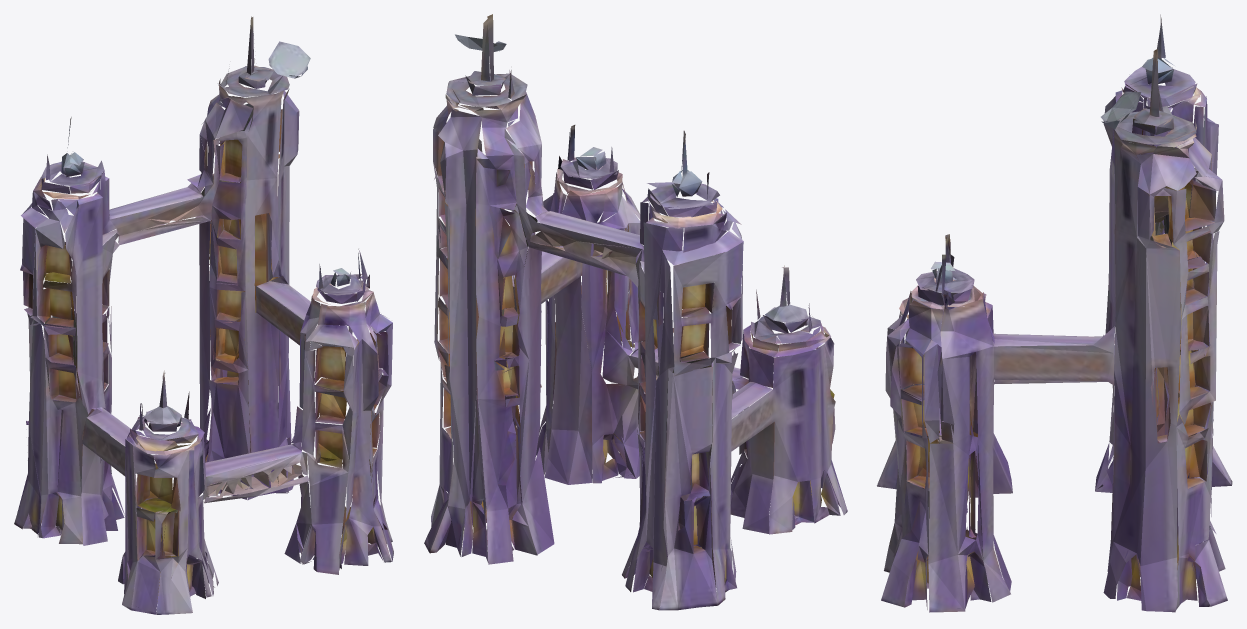
File: agents.glb
3 renders of one model, left to right at view 1: azimuth 30°, elevation 25°; view 2: azimuth 150°, elevation 25°; view 3: azimuth 270°, elevation 25°, orthographic. The views are drawn at different scales.
Parts seen in each view (by area): view 1: geometry_0; view 2: geometry_0; view 3: geometry_0.
Boxes of the visible parts, x1,y1,x2,y2 form: geometry_0: (14, 16, 393, 614); geometry_0: (424, 14, 847, 610); geometry_0: (877, 14, 1232, 612).
Size of the model in its own units: 0.6014 by 1 by 0.59.
1 material, 1 textured.
